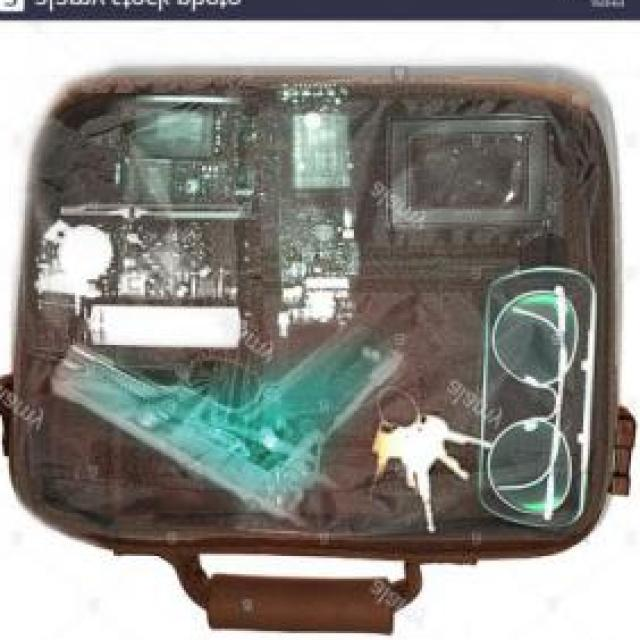pistol: (50, 324, 415, 526)
